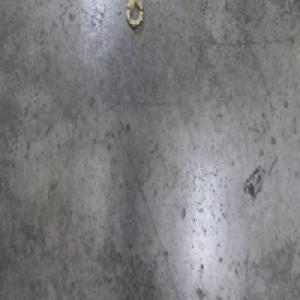Nut: (124, 0, 144, 33)
